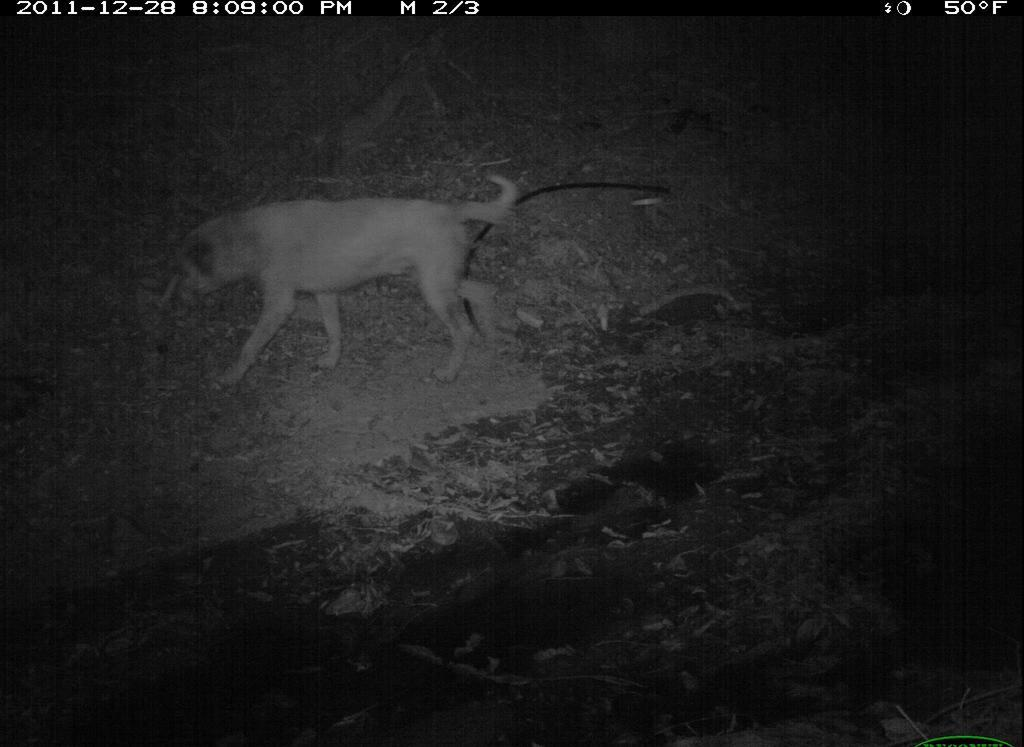dog: (149, 159, 543, 402)
